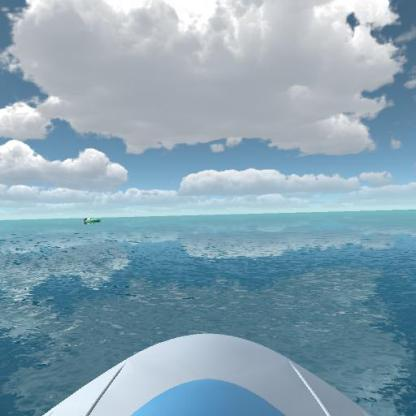usv0: (80, 214, 103, 227)
